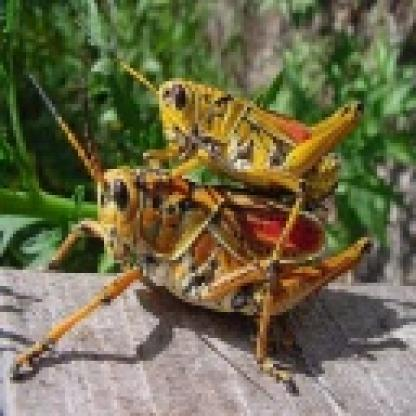grasshopper: (55, 144, 372, 370), (119, 55, 363, 202)
